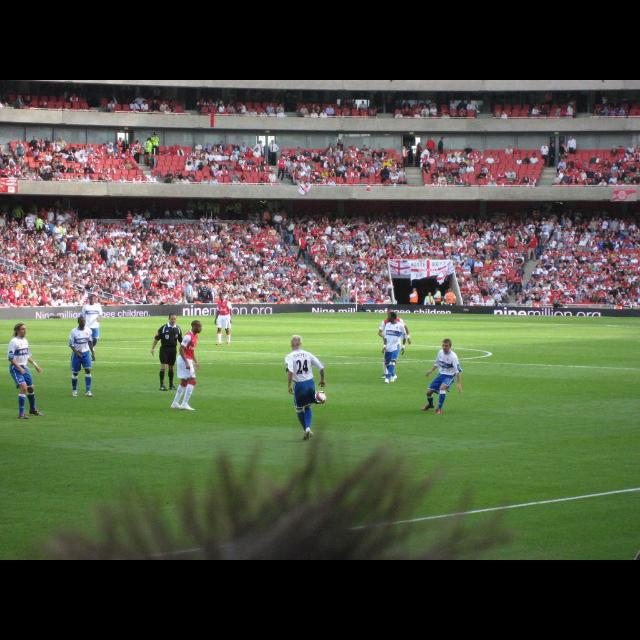Football: (316, 392, 324, 402)
